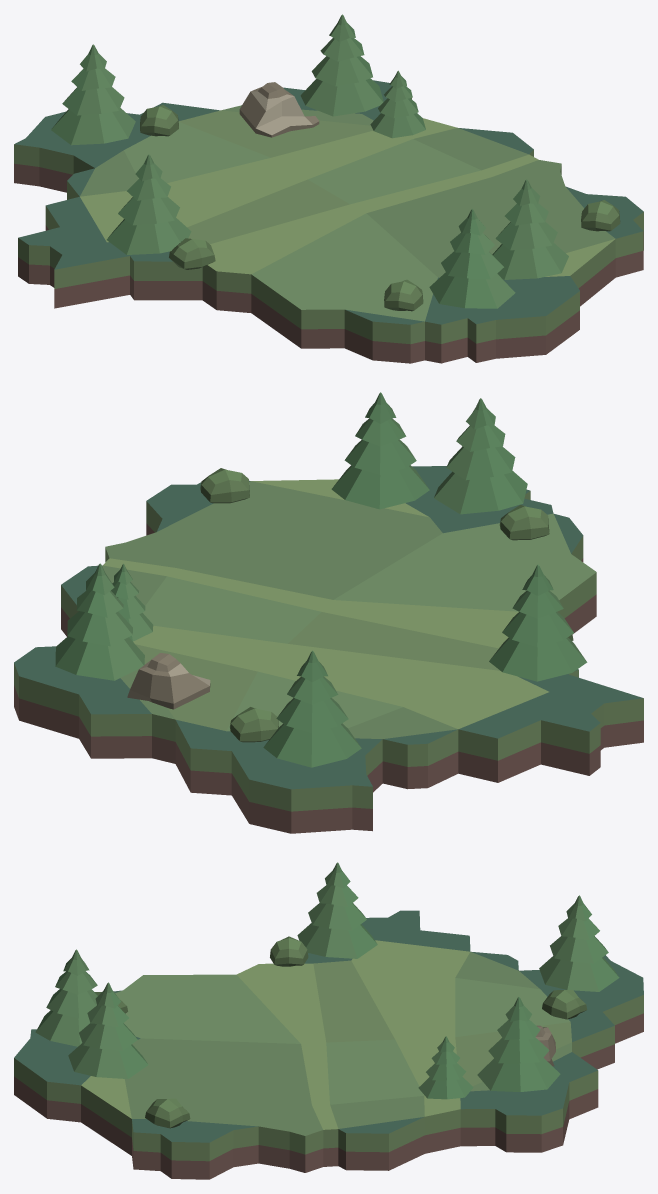
The model's file is zigansk.gltf.
3 renders of one model, top to bottom at view 1: azimuth 30°, elevation 25°; view 2: azimuth 150°, elevation 25°; view 3: azimuth 270°, elevation 25°, orthographic. The views are drawn at different scales.
Parts seen in each view (by area): view 1: жиганск; view 2: жиганск; view 3: жиганск.
Part boxes in pixels (bbox=[...]): жиганск: bbox=[14, 14, 643, 363]; жиганск: bbox=[14, 392, 643, 833]; жиганск: bbox=[14, 862, 643, 1179].
Bounding box in the file's own units: 2.12 × 0.5325 × 2.4.
